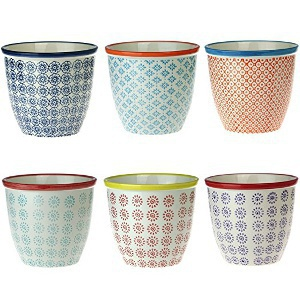flowerpot: (1, 38, 98, 138), (103, 172, 199, 269), (105, 37, 200, 135), (2, 173, 98, 269), (205, 39, 298, 135), (204, 172, 298, 265)
